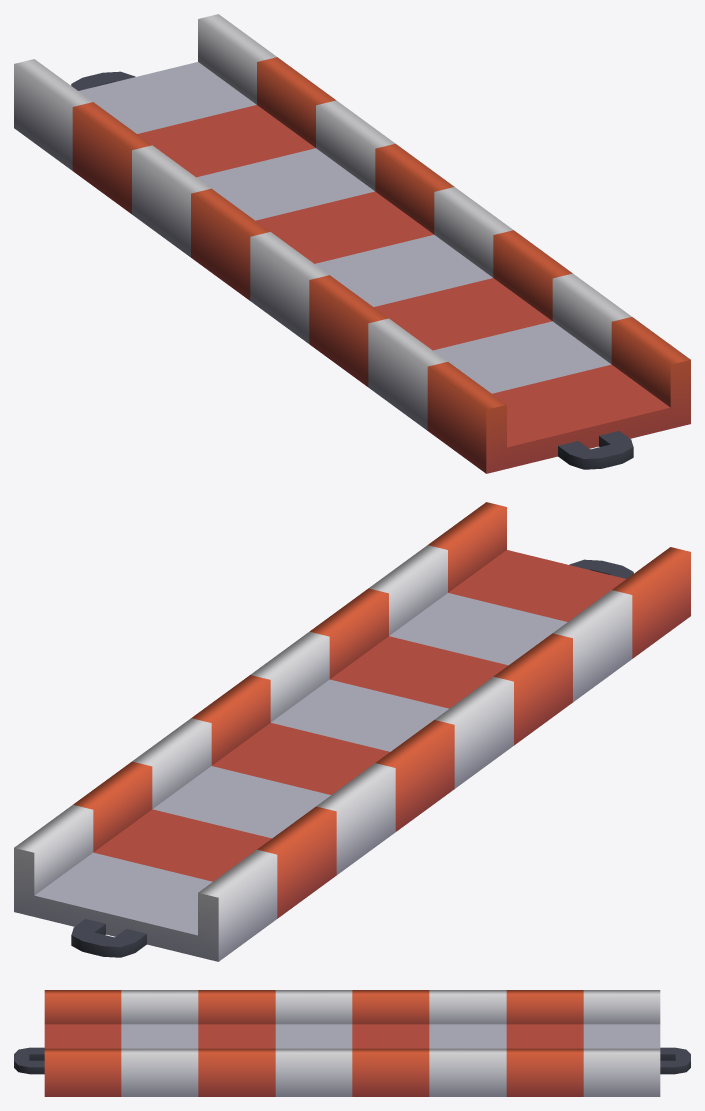
The model's file is track-striped-narrow-straight.glb.
3 renders of one model, top to bottom at view 1: azimuth 30°, elevation 25°; view 2: azimuth 150°, elevation 25°; view 3: azimuth 270°, elevation 25°, orthographic. The views are drawn at different scales.
Visible parts, largest first — view 1: track-striped-narrow-straight; view 2: track-striped-narrow-straight; view 3: track-striped-narrow-straight.
Boxes of the visible parts, x1,y1,x2,y2 form: track-striped-narrow-straight: (14,14,690,473); track-striped-narrow-straight: (14,502,690,961); track-striped-narrow-straight: (14,990,690,1096).
Bounding box in the file's own units: 1 × 0.3 × 4.4.
